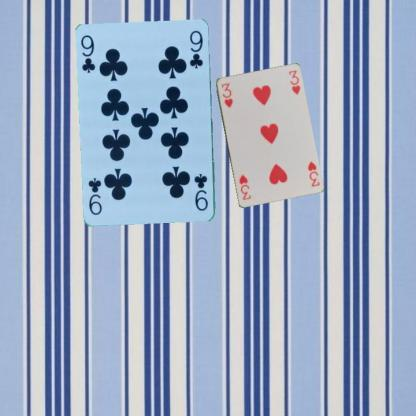3h: (218, 80, 234, 109), (305, 159, 321, 188)
9c: (78, 32, 96, 74), (192, 172, 210, 212)
